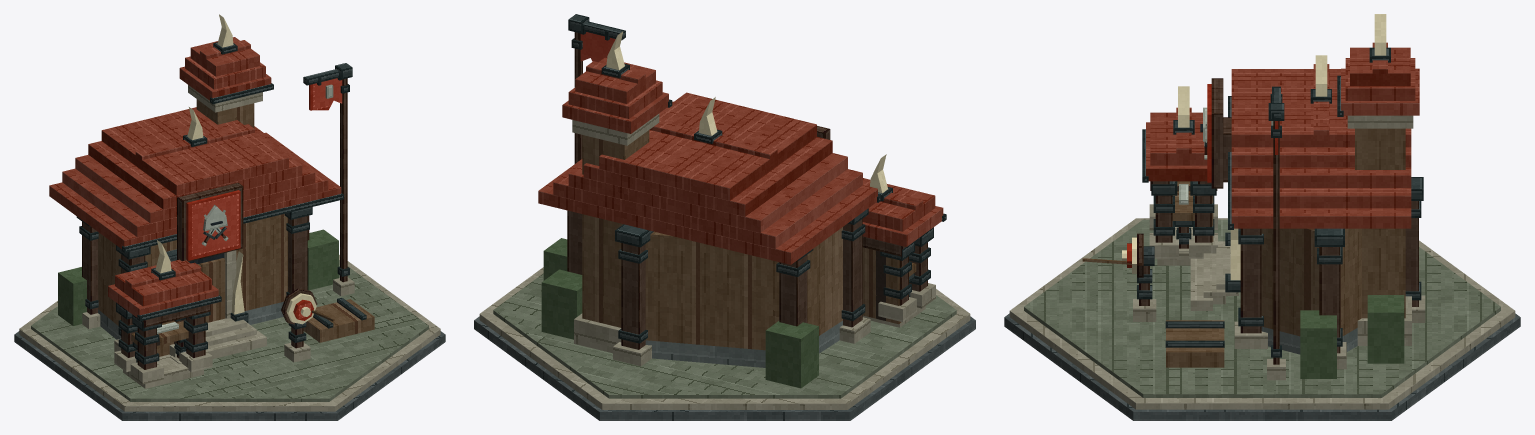
File: orc_rogue_mastery_hex_v1.glb
3 renders of one model, left to right at view 1: azimuth 30°, elevation 25°; view 2: azimuth 150°, elevation 25°; view 3: azimuth 270°, elevation 25°, orthographic. The views are drawn at different scales.
Parts seen in each view (by area): view 1: Orc_Rogue_Mastery_Hex_V1_Roofs, Orc_Rogue_Mastery_Hex_V1_Foundation, Orc_Rogue_Mastery_Hex_V1_Hall, Orc_Rogue_Mastery_Hex_V1_Faction, Orc_Rogue_Mastery_Hex_V1_Details, Orc_Rogue_Mastery_Hex_V1_Courtyard, Orc_Rogue_Mastery_Hex_V1_Training, Orc_Rogue_Mastery_Hex_V1_Focus; view 2: Orc_Rogue_Mastery_Hex_V1_Roofs, Orc_Rogue_Mastery_Hex_V1_Hall, Orc_Rogue_Mastery_Hex_V1_Foundation, Orc_Rogue_Mastery_Hex_V1_Details, Orc_Rogue_Mastery_Hex_V1_Focus, Orc_Rogue_Mastery_Hex_V1_Faction; view 3: Orc_Rogue_Mastery_Hex_V1_Foundation, Orc_Rogue_Mastery_Hex_V1_Roofs, Orc_Rogue_Mastery_Hex_V1_Hall, Orc_Rogue_Mastery_Hex_V1_Details, Orc_Rogue_Mastery_Hex_V1_Focus, Orc_Rogue_Mastery_Hex_V1_Faction, Orc_Rogue_Mastery_Hex_V1_Courtyard, Orc_Rogue_Mastery_Hex_V1_Training.
Part boxes in pixels (left/top/right/bottom): Orc_Rogue_Mastery_Hex_V1_Roofs: left=49, top=14, right=343, bottom=321; Orc_Rogue_Mastery_Hex_V1_Foundation: left=14, top=254, right=445, bottom=420; Orc_Rogue_Mastery_Hex_V1_Hall: left=76, top=207, right=312, bottom=388; Orc_Rogue_Mastery_Hex_V1_Faction: left=177, top=63, right=354, bottom=296; Orc_Rogue_Mastery_Hex_V1_Details: left=58, top=84, right=366, bottom=364; Orc_Rogue_Mastery_Hex_V1_Courtyard: left=205, top=299, right=374, bottom=358; Orc_Rogue_Mastery_Hex_V1_Training: left=131, top=288, right=334, bottom=363; Orc_Rogue_Mastery_Hex_V1_Focus: left=188, top=85, right=262, bottom=127; Orc_Rogue_Mastery_Hex_V1_Roofs: left=538, top=31, right=946, bottom=264; Orc_Rogue_Mastery_Hex_V1_Hall: left=567, top=208, right=935, bottom=367; Orc_Rogue_Mastery_Hex_V1_Foundation: left=474, top=267, right=975, bottom=420; Orc_Rogue_Mastery_Hex_V1_Details: left=541, top=38, right=930, bottom=388; Orc_Rogue_Mastery_Hex_V1_Focus: left=572, top=113, right=659, bottom=353; Orc_Rogue_Mastery_Hex_V1_Faction: left=568, top=14, right=830, bottom=163; Orc_Rogue_Mastery_Hex_V1_Foundation: left=1004, top=218, right=1520, bottom=420; Orc_Rogue_Mastery_Hex_V1_Roofs: left=1142, top=14, right=1419, bottom=229; Orc_Rogue_Mastery_Hex_V1_Hall: left=1149, top=177, right=1425, bottom=369; Orc_Rogue_Mastery_Hex_V1_Details: left=1137, top=125, right=1421, bottom=378; Orc_Rogue_Mastery_Hex_V1_Focus: left=1347, top=115, right=1413, bottom=345; Orc_Rogue_Mastery_Hex_V1_Faction: left=1200, top=78, right=1285, bottom=380; Orc_Rogue_Mastery_Hex_V1_Courtyard: left=1166, top=241, right=1238, bottom=367; Orc_Rogue_Mastery_Hex_V1_Training: left=1082, top=181, right=1194, bottom=321.
Size of the model in its own units: 1.59 by 1.32 by 1.84.
1 material, 1 textured.
